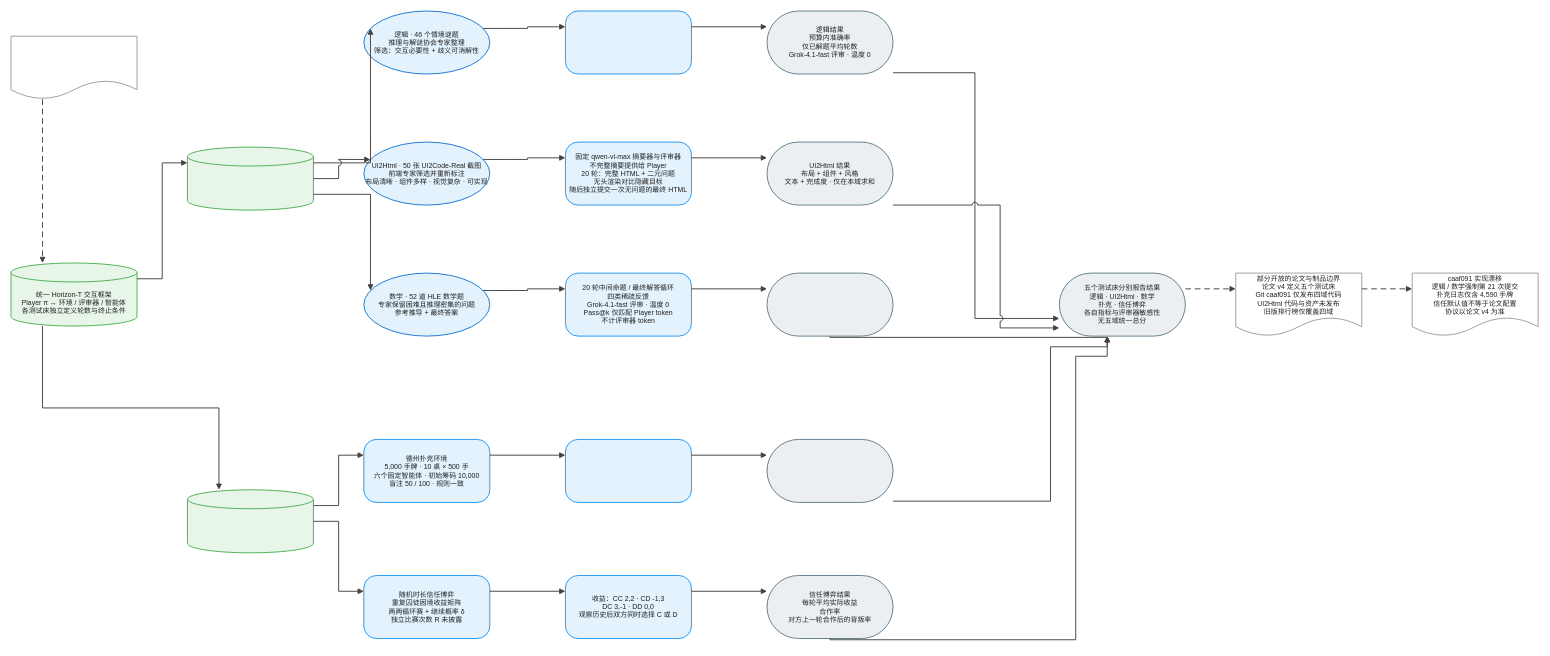
Some shapes in this 1550 by 656 pixel diagram are drawn without their labels. The centre of each missing label's shape, as x and y in pixels:
20 轮 Player–Judge 循环 询问是非问题或提交完整解释 反馈：是 / 否 / 两者皆有 / 无关 错误最终答案消耗一次动作 正确提交立即结束: (x=628, y=42)
主要证据与固定快照 arXiv:2603.04737v4 首投 2026-03 · Git caaf091 论文定义五个独立测试床: (x=73, y=67)
交互式博弈 与其他智能体交互并获得任务奖励 最大化长期期望效用: (x=250, y=521)
交互式证明 隐藏真值 + 全知验证器 在查询预算内最大化任务得分: (x=250, y=178)
数学结果 准确率 + 已解题平均轮数 对比预算匹配 Pass@k: (x=829, y=304)
结构化不完全观察 输出合法弃牌 / 过牌 / 跟注 / 加注 / 全押 非法输出可重试一次 → 自动弃牌: (x=628, y=471)
跨牌桌扑克结果 每手收益均值 ± 标准差 VPIP · 弃牌率 · 响应延迟: (x=829, y=471)
